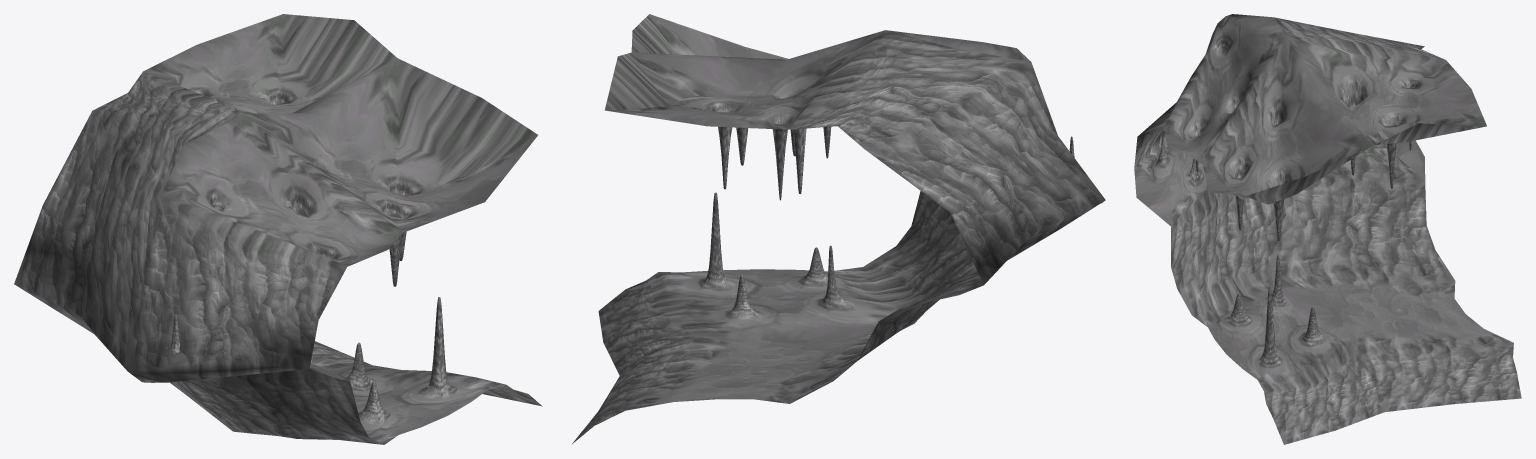
File: SWORDLIGHT20_PS-AREA05_02.fbx
The picture shows the model from 3 angles, left to right: view 1: azimuth 30°, elevation 25°; view 2: azimuth 150°, elevation 25°; view 3: azimuth 270°, elevation 25°; orthographic projection. The views are drawn at different scales.
Visible parts, largest first — view 1: SWORDLIGHT20_PS-AREA05_02; view 2: SWORDLIGHT20_PS-AREA05_02; view 3: SWORDLIGHT20_PS-AREA05_02.
Part boxes in pixels (<box>): SWORDLIGHT20_PS-AREA05_02: <box>14,14,542,444</box>; SWORDLIGHT20_PS-AREA05_02: <box>572,14,1105,443</box>; SWORDLIGHT20_PS-AREA05_02: <box>1134,14,1521,444</box>.
Size of the model in its own units: 223331 by 165725 by 198969.
Materials: 5 (5 with a texture image).
